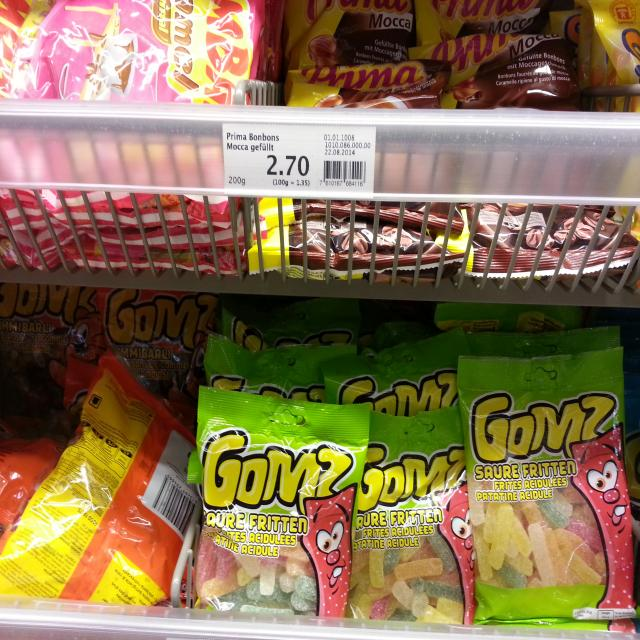Bombons: (458, 348, 638, 624), (3, 348, 193, 608), (196, 385, 369, 621), (255, 60, 465, 237), (418, 35, 616, 212), (345, 411, 475, 623), (0, 0, 261, 103), (282, 0, 424, 59)
